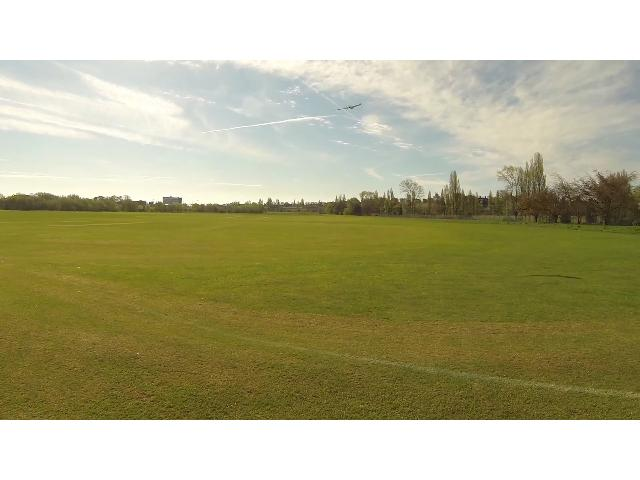Anti-Drone: (330, 99, 368, 117)
